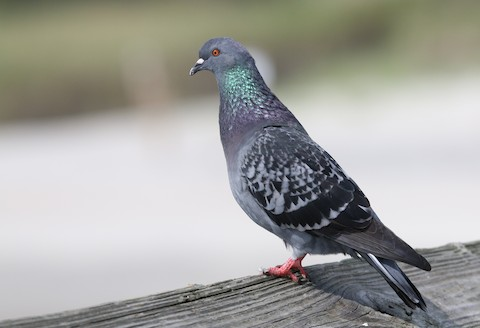pigeon: (184, 34, 434, 316)
